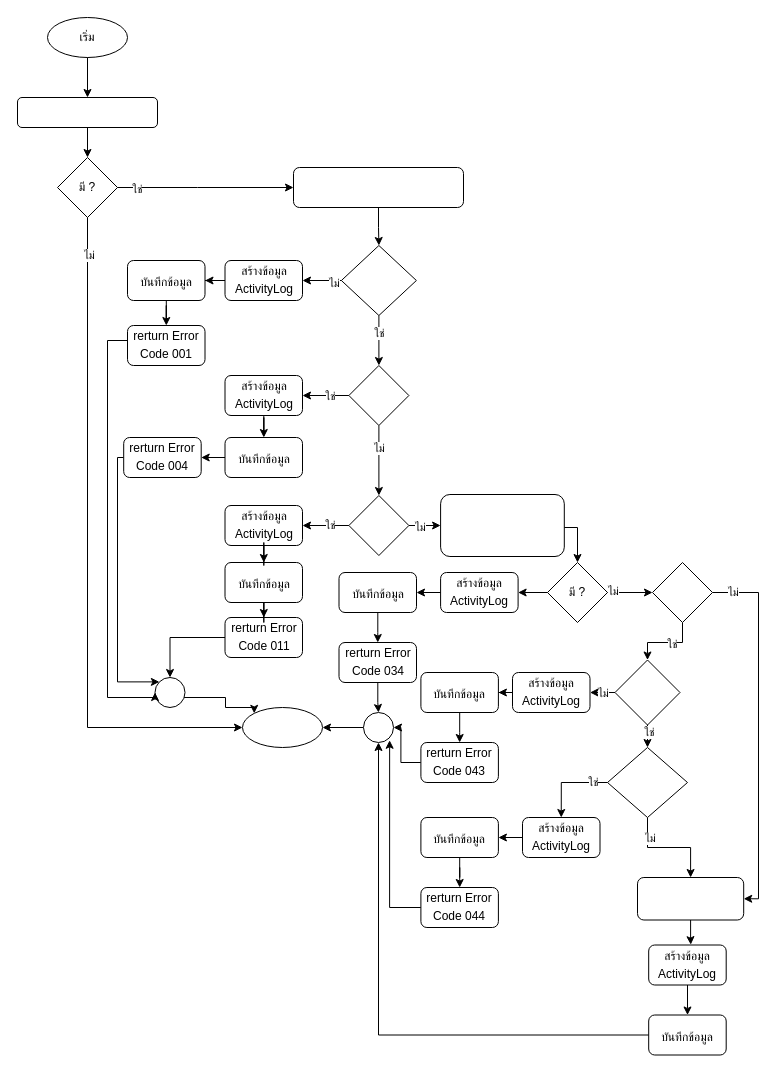
Image size: 784x1073. Some labels were removed from this diagram. The shapes that lost their labels are listed below. From the top down, each one's centre as x and y in pixels, then its label:
the point at 87,112: ตรวจสอบสิทธิ์การใช้งาน
the point at 378,187: ตรวจสอบ Account สถานะการใช้งาน
the point at 378,280: มีใน ระบบ ?
the point at 378,395: status = 1 ?
the point at 378,525: Locked = 1 ?
the point at 502,525: ตรวจสอบว่า NewsCompanyCode ซ้ำในฐานข้อมูลไหม
the point at 682,592: Logo ?
the point at 647,692: ไฟล รูปภาพ ?
the point at 282,727: สิ้นสุด
the point at 647,782: ขนาดไฟล > 50mb ?
the point at 690,898: สร้างข้อมูลบริษัทแหล่งข่าว
